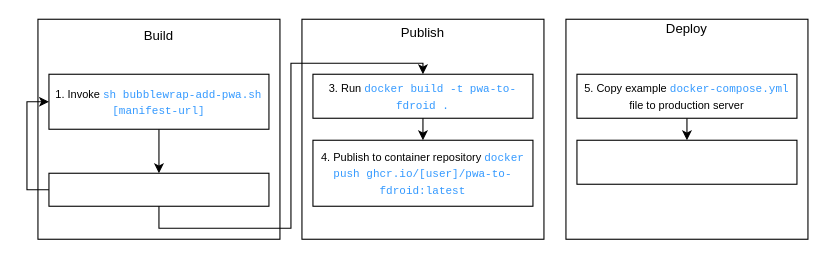
Some shapes in this 827 by 259 pixel diagram are drawn without their labels. The centre of each missing label's shape, as x and y in pixels:
2. Repeat (1) for every PWA: [158,189]
6. Start production F-Droid repository container docker compose up: [686,161]
